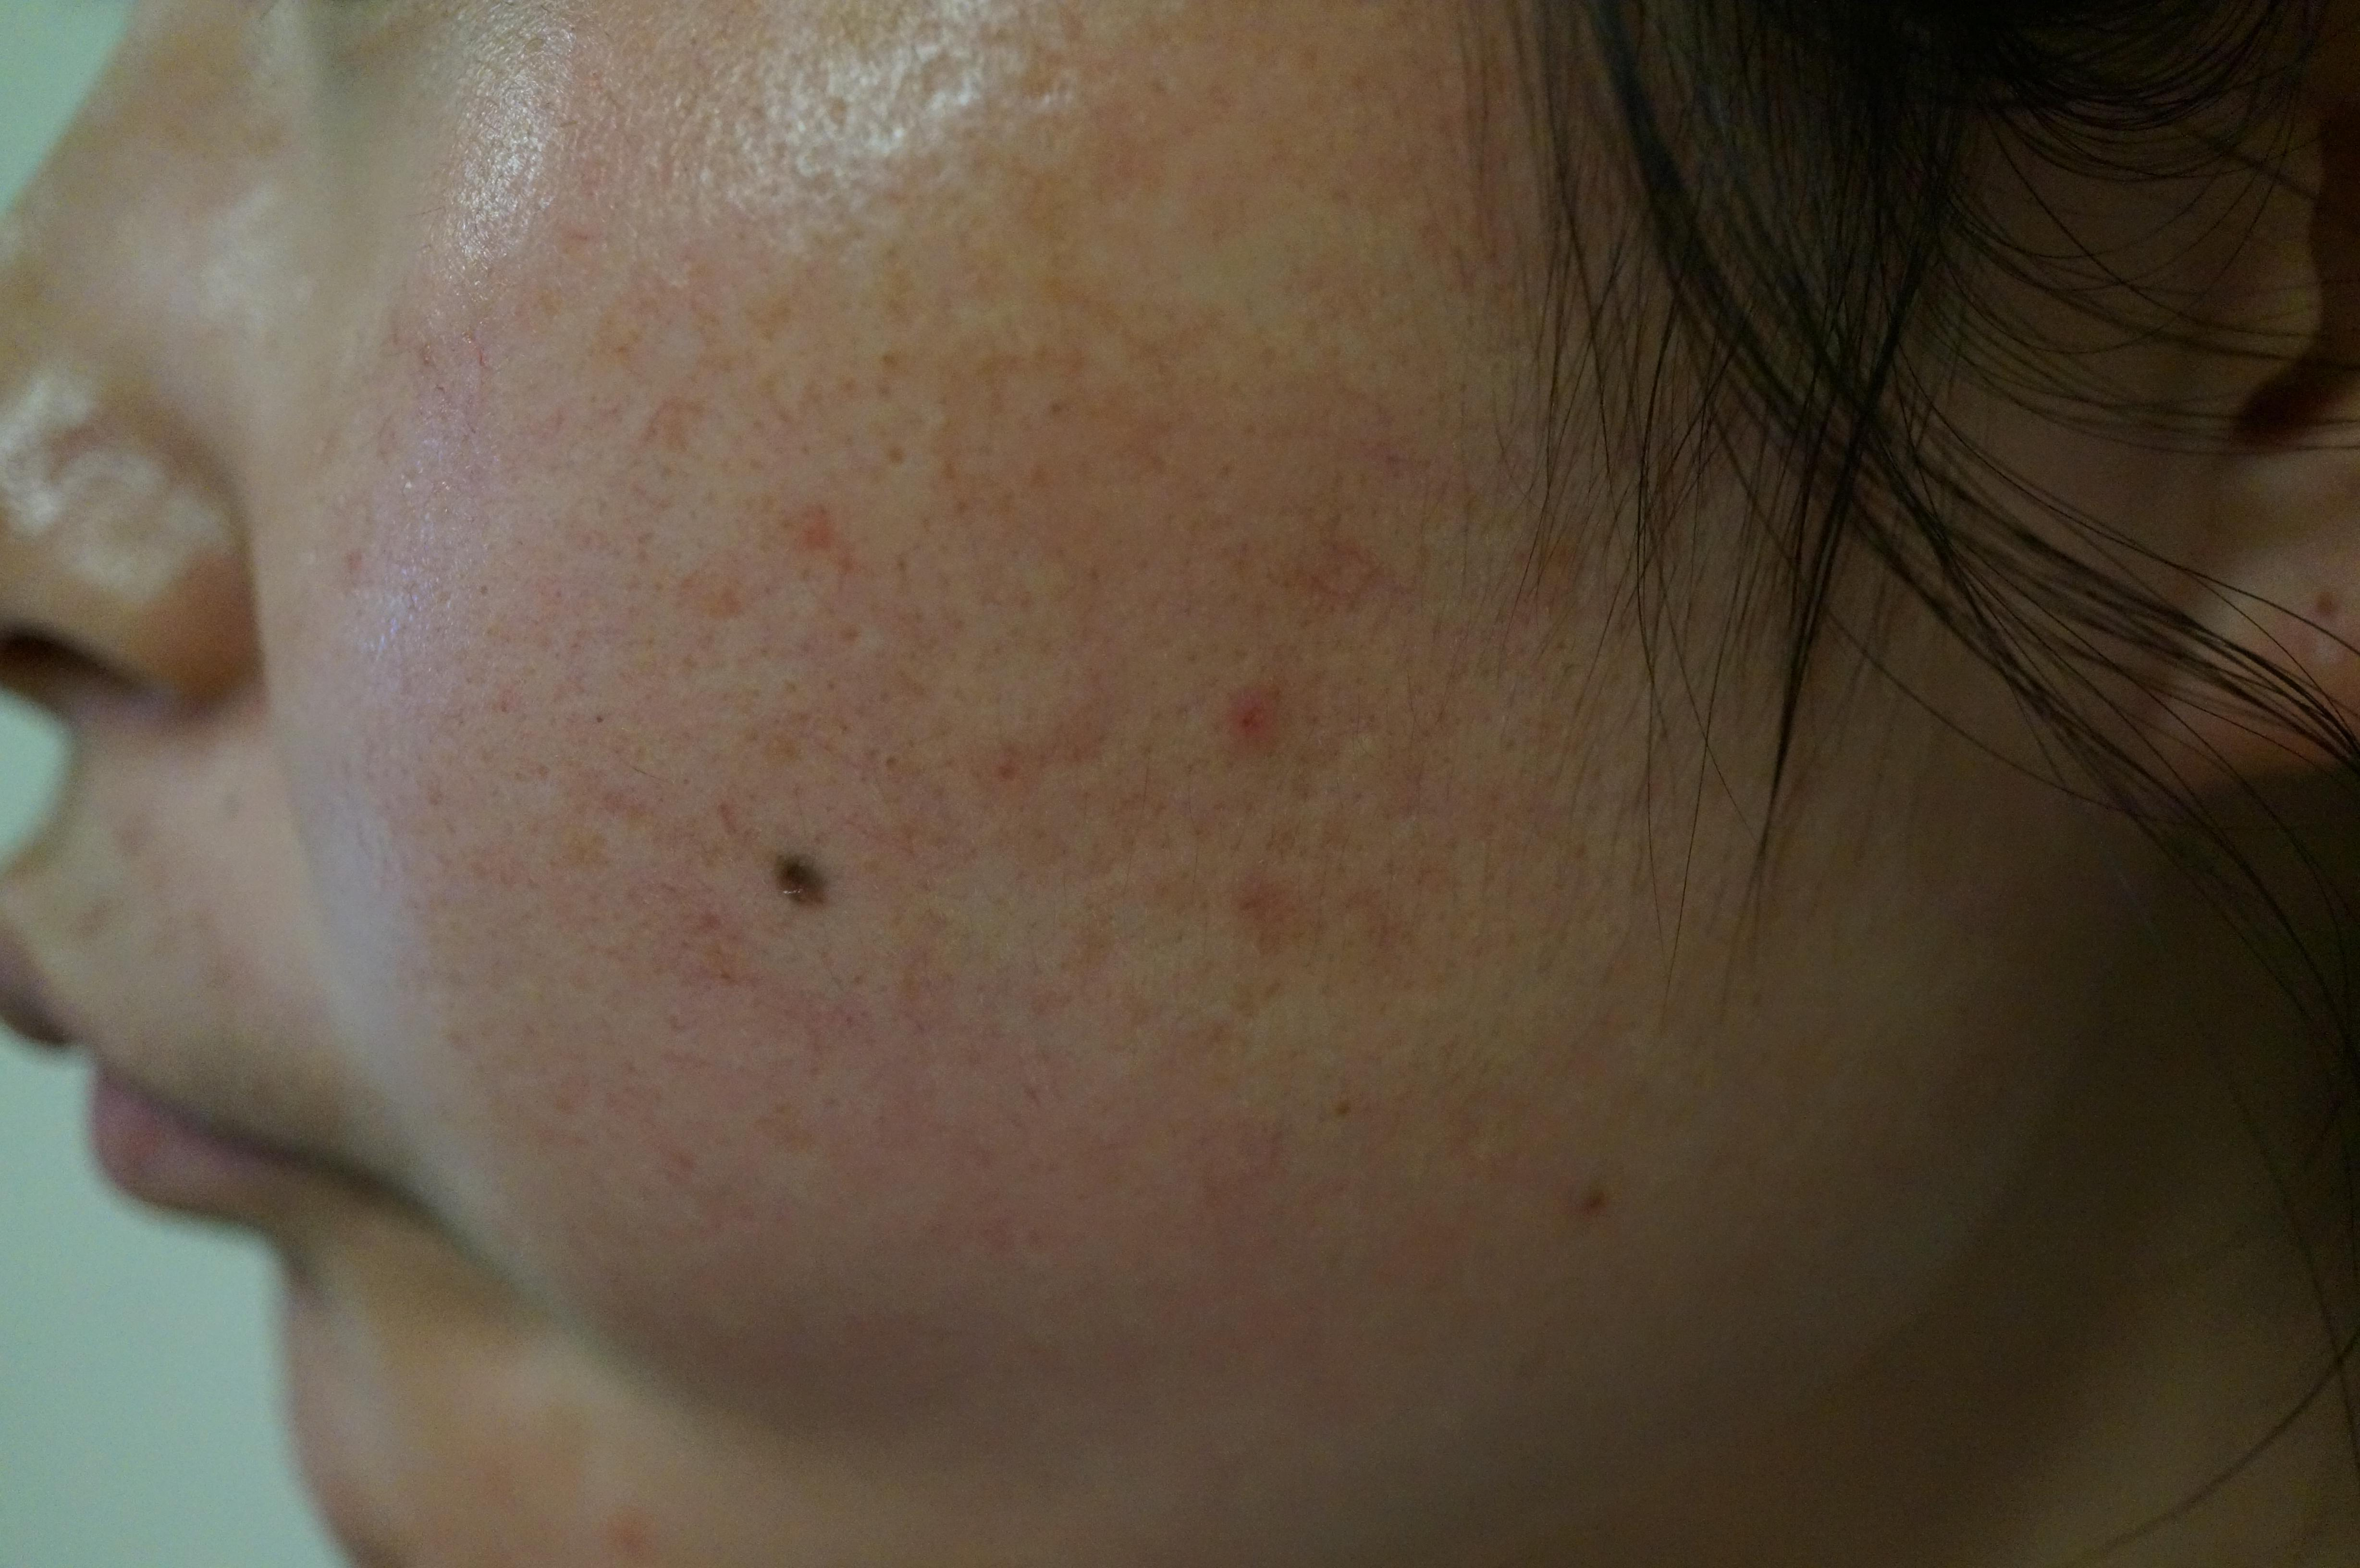fore: (1188, 649, 1328, 801)
